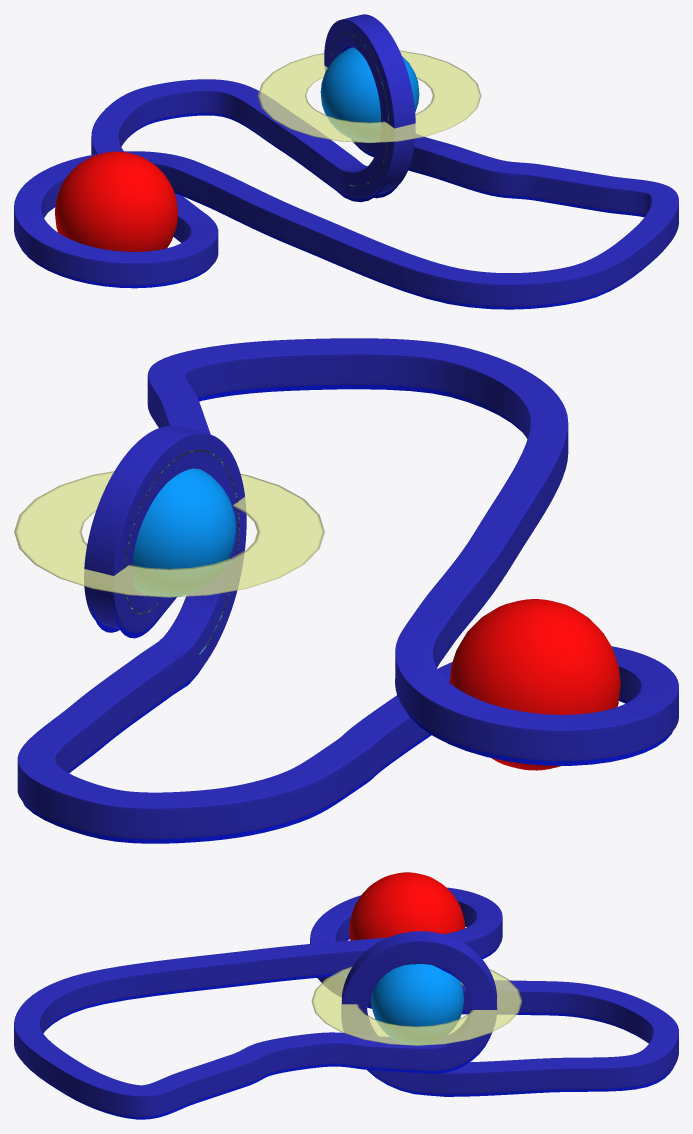
The model's file is SpaceTrackV2.FBX.
The picture shows the model from 3 angles, top to bottom: view 1: azimuth 30°, elevation 25°; view 2: azimuth 150°, elevation 25°; view 3: azimuth 270°, elevation 25°; orthographic projection. The views are drawn at different scales.
Parts seen in each view (by area): view 1: Boundary, Jupiter, Torus001, SATURN, fakeBoundary; view 2: Boundary, Torus001, Jupiter, SATURN, fakeBoundary, Track; view 3: Boundary, Torus001, SATURN, Jupiter, fakeBoundary.
Part boxes in pixels (x1,y1,x2,y2): Boundary: (14,14,678,306); Jupiter: (55,151,177,251); Torus001: (257,50,481,142); SATURN: (320,47,419,142); fakeBoundary: (20,46,662,309); Boundary: (17,338,678,839); Torus001: (14,471,324,597); Jupiter: (449,599,620,770); SATURN: (132,468,236,597); fakeBoundary: (23,385,672,843); Track: (124,449,239,654); Boundary: (14,887,678,1116); Torus001: (311,966,522,1045); SATURN: (371,964,464,1045); Jupiter: (349,872,465,940); fakeBoundary: (23,925,673,1119).
Size of the model in its own units: 1180 by 395 by 1430.
